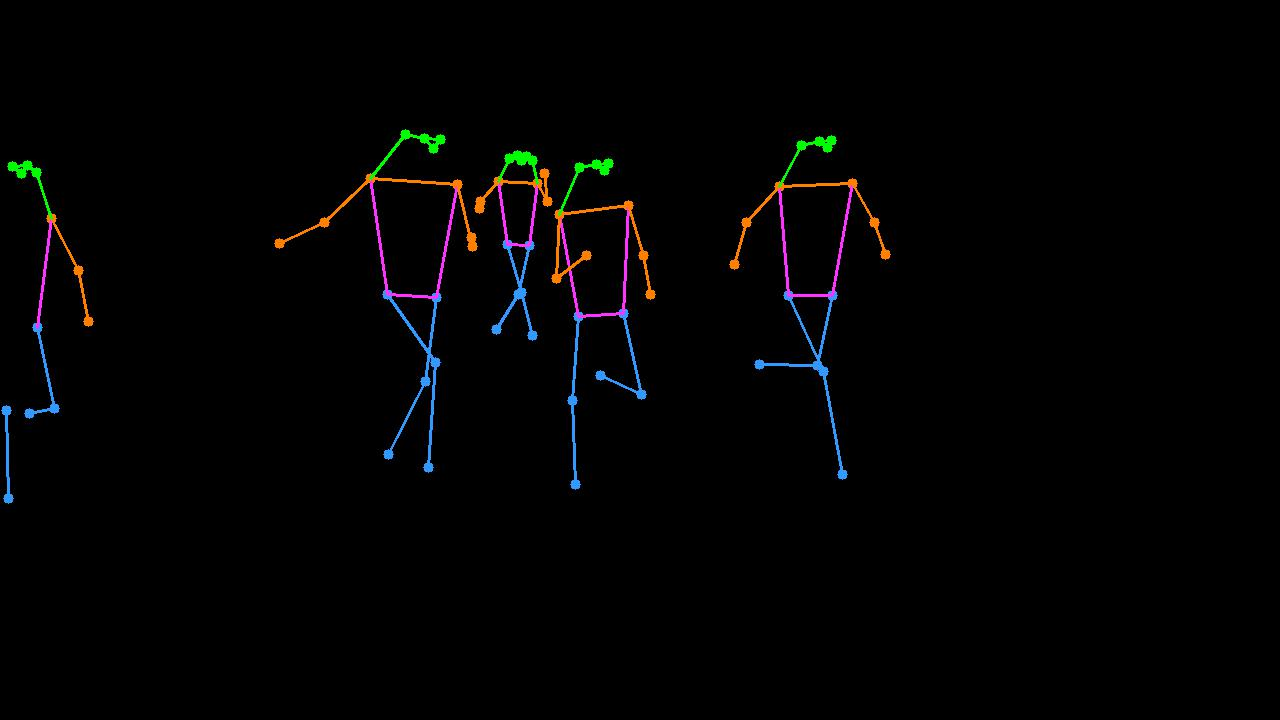normal: (319, 96, 491, 510), (723, 103, 892, 500), (545, 128, 662, 519)
